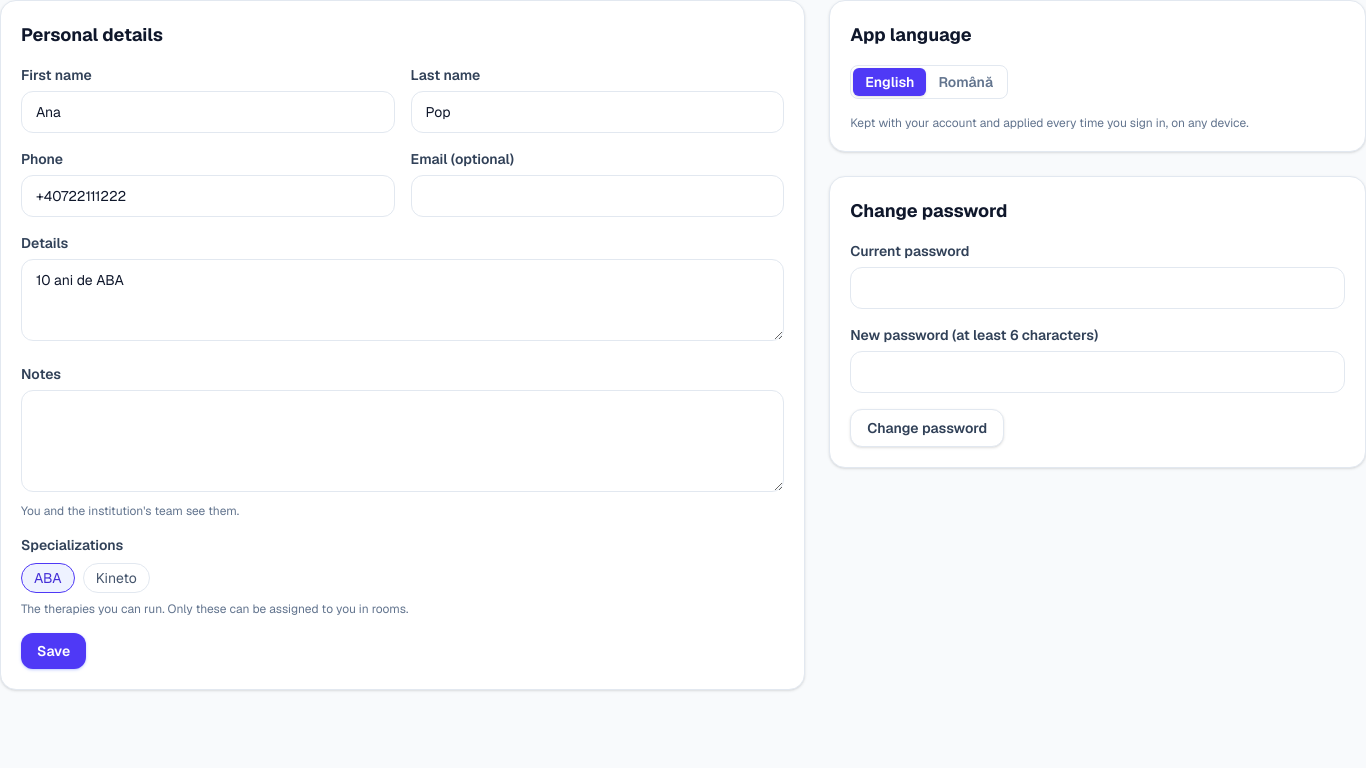
it: Profile › saves the details and a therapist’s own skills
This screenshot has width=1366, height=768.
Expected: the text box showing "10 ani de ABA" is shown, x1=21 y1=259 x2=784 y2=341
Type "Lucrez marți și joi" into the text box labelled "Notes" at coordinates (403, 441), box x1=21 y1=390 x2=784 y2=492
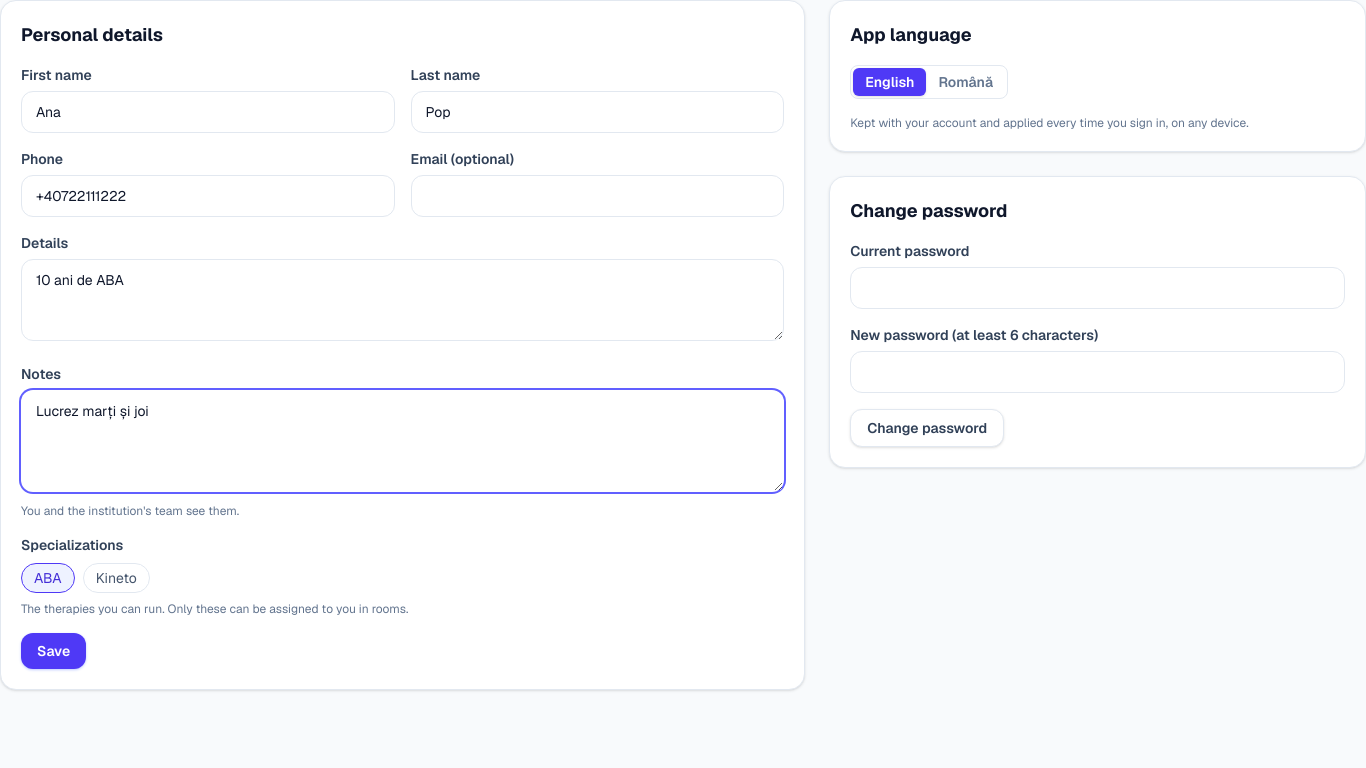
Click the checkbox labelled "Kineto" at coordinates (116, 578), box x1=83 y1=563 x2=150 y2=593
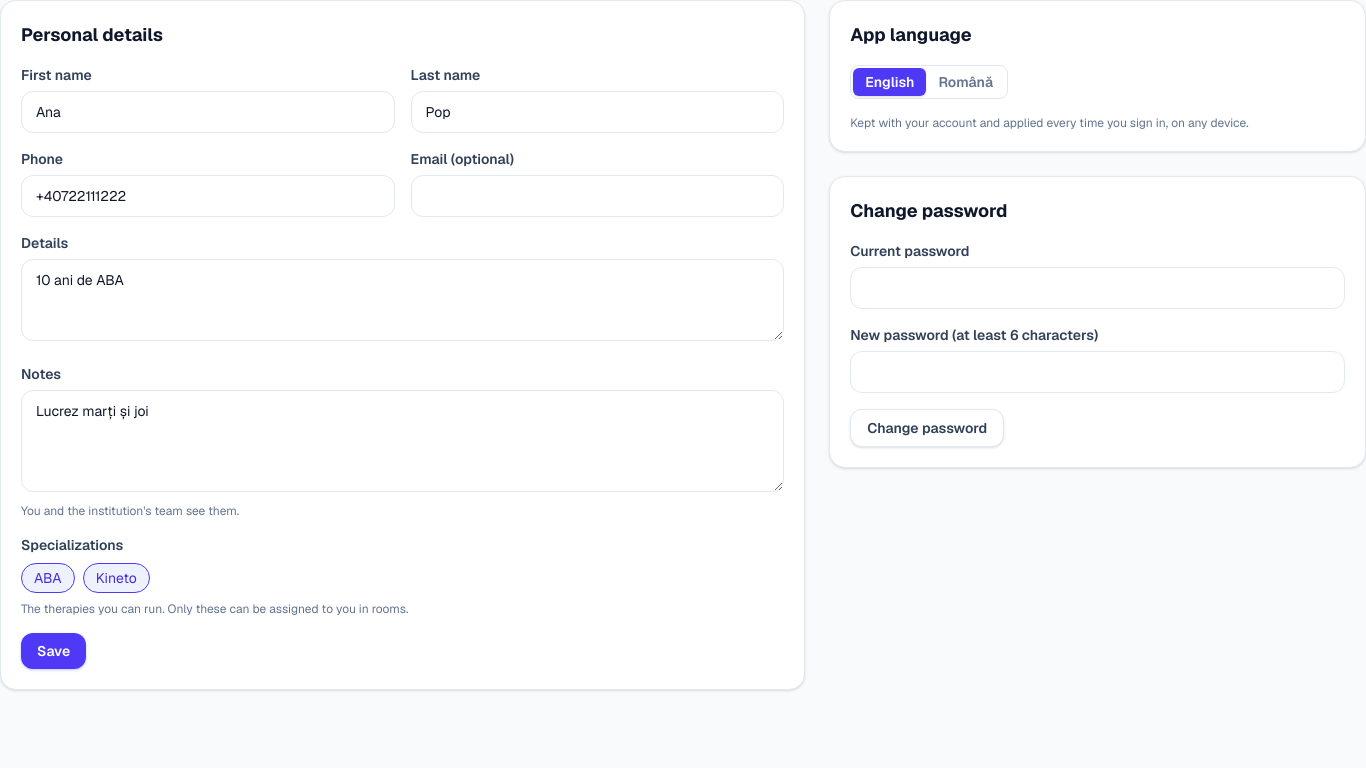
Click the button "Save" at coordinates (54, 651), box x1=21 y1=633 x2=86 y2=669
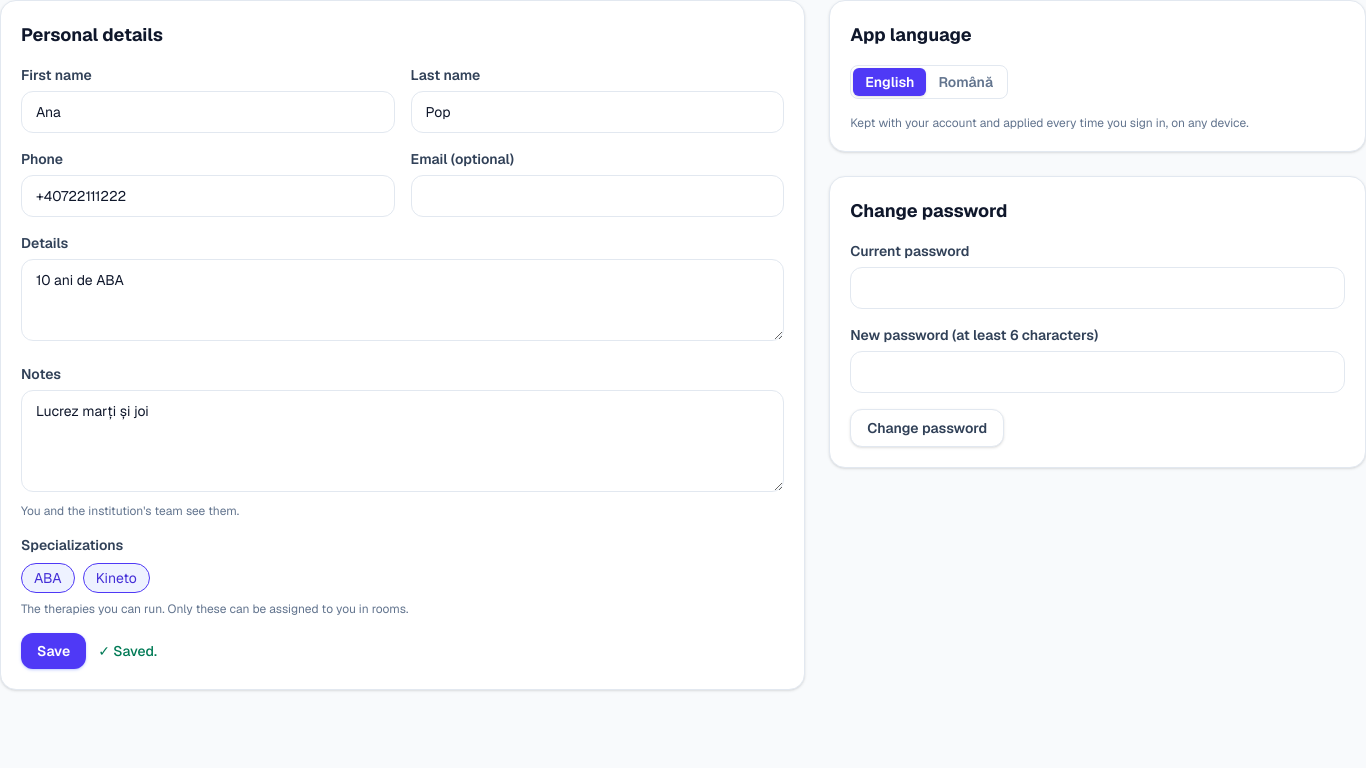
Expected: the text "✓ Saved." is shown, x1=98 y1=641 x2=157 y2=661
